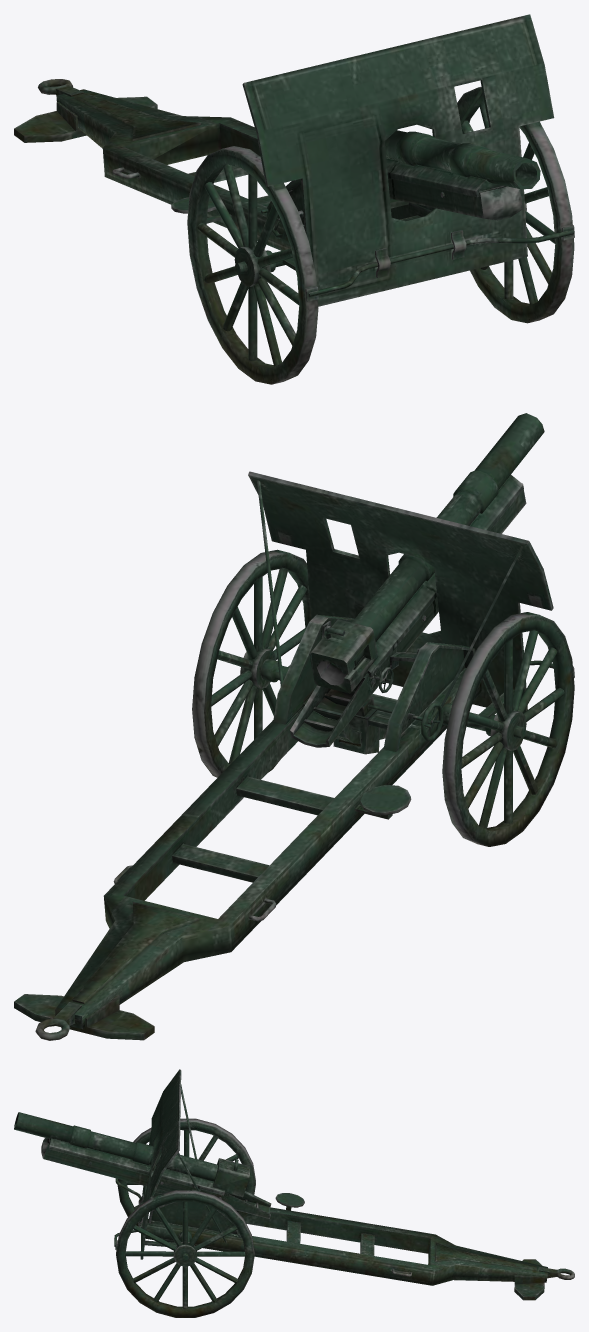
File: realistic-by.76880fe3d732.artillery.glb
3 views of the same model, one above another, from view 1: azimuth 30°, elevation 25°; view 2: azimuth 150°, elevation 25°; view 3: azimuth 270°, elevation 25° (orthographic). The views are drawn at different scales.
Parts seen in each view (by area): view 1: artillery; view 2: artillery; view 3: artillery.
Part boxes in pixels (bbox=[...]): artillery: bbox=[14, 14, 574, 384]; artillery: bbox=[14, 413, 574, 1040]; artillery: bbox=[14, 1069, 574, 1317].
Bounding box in the file's own units: 2.02 × 2.03 × 6.
Materials: 1 (1 with a texture image).
